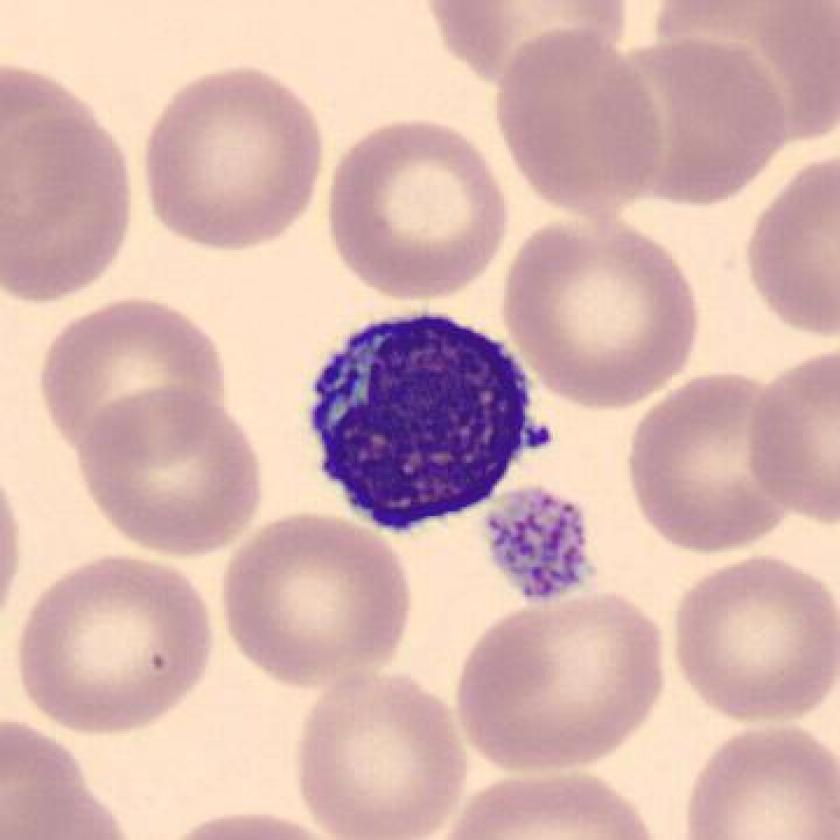lymphocyte: (293, 304, 566, 552)
